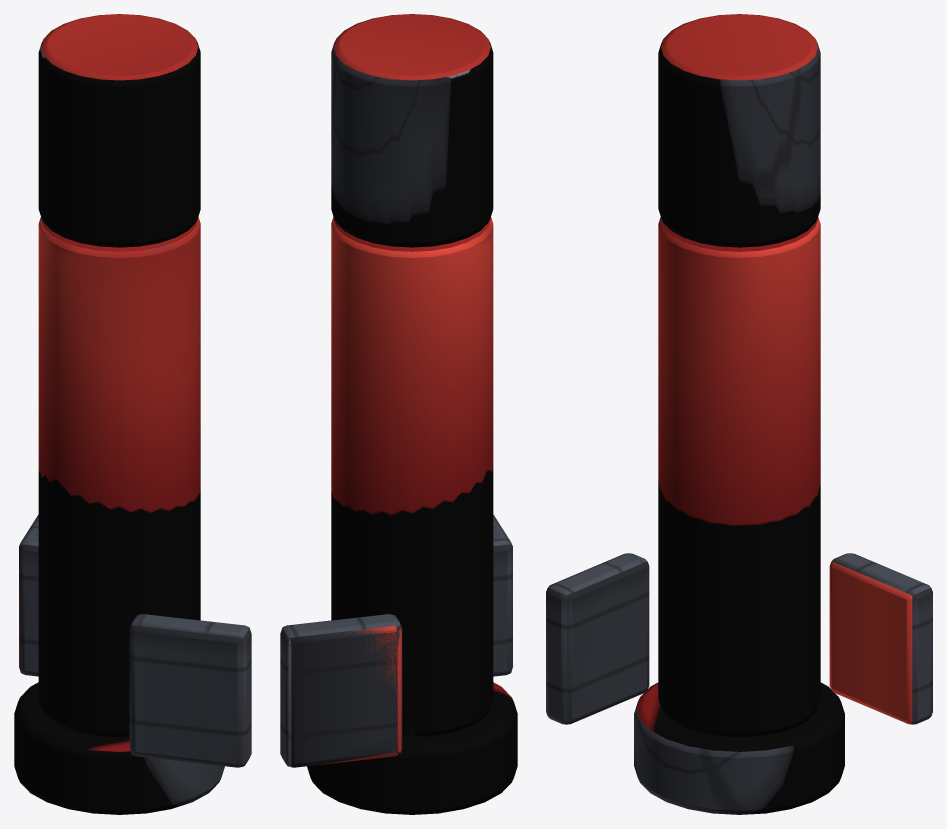
Rendered from rocket_body.glb.
3 views of the same model, side by side, from view 1: azimuth 30°, elevation 25°; view 2: azimuth 150°, elevation 25°; view 3: azimuth 270°, elevation 25° (orthographic).
Parts seen in each view (by area): view 1: Cylinder; view 2: Cylinder; view 3: Cylinder.
Part boxes in pixels (x1,y1,x2,y2): Cylinder: (14,14,251,814); Cylinder: (280,14,517,814); Cylinder: (546,14,932,814).
Size of the model in its own units: 0.156 by 0.595 by 0.2863.
1 material, 1 textured.
